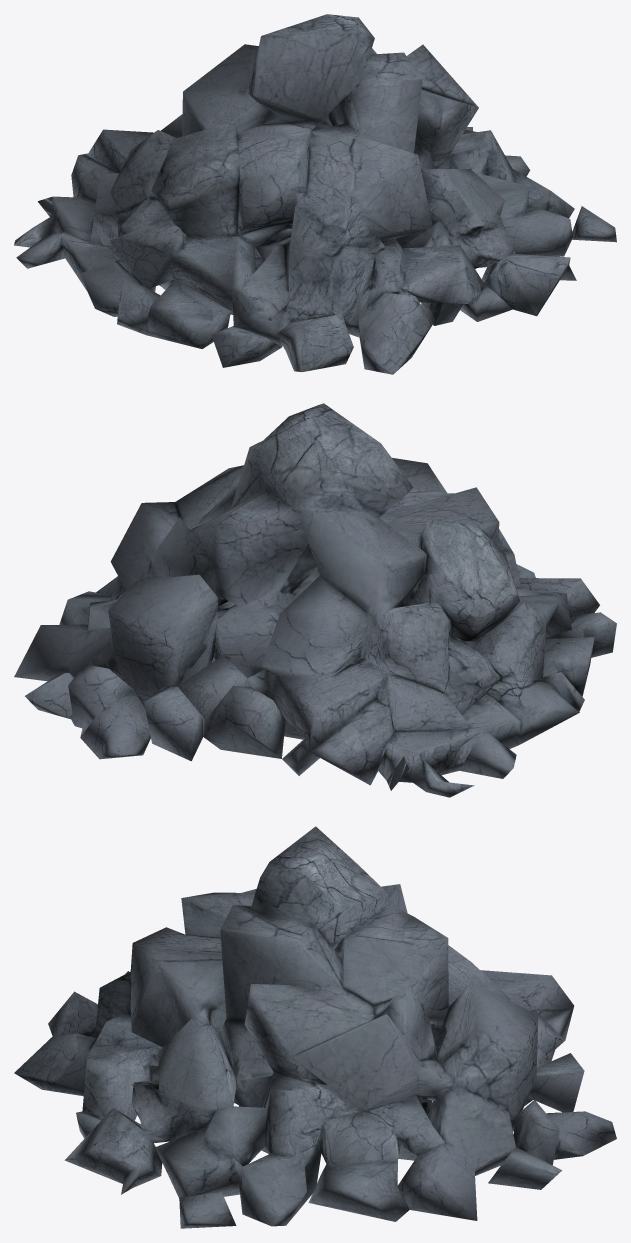
File: prop-den-rubble.glb
3 renders of one model, top to bottom at view 1: azimuth 30°, elevation 25°; view 2: azimuth 150°, elevation 25°; view 3: azimuth 270°, elevation 25°, orthographic. The views are drawn at different scales.
Size of the model in its own units: 1.98 by 0.9383 by 2.
Materials: 1 (1 with a texture image).
